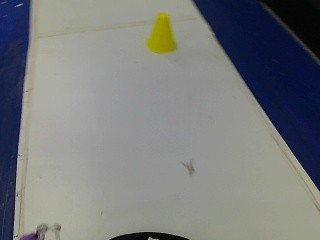cone: (143, 11, 179, 56)
